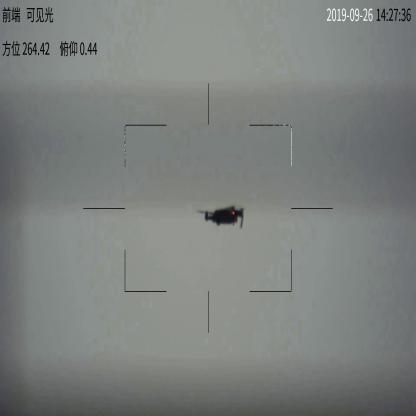uav: (196, 205, 254, 229)
